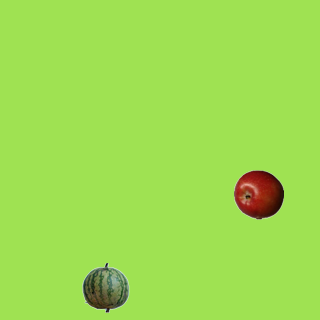Apple Braeburn: (233, 169, 283, 219)
Watermelon: (80, 262, 130, 312)
